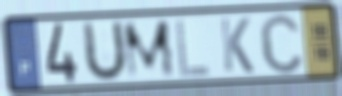4: (45, 21, 80, 86)
C: (258, 11, 306, 76)
K: (218, 16, 256, 76)
L: (173, 16, 213, 80)
M: (121, 17, 178, 81)
U: (82, 18, 129, 85)
